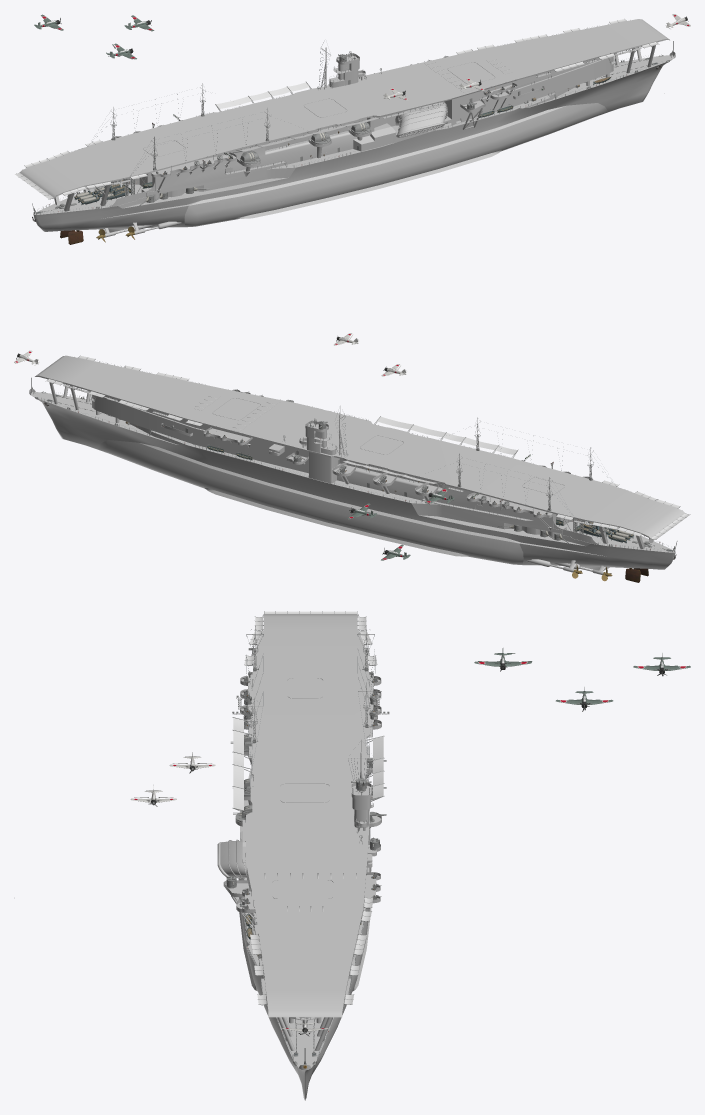
The model's file is Akagi.fbx.
The picture shows the model from 3 angles, top to bottom: view 1: azimuth 30°, elevation 25°; view 2: azimuth 150°, elevation 25°; view 3: azimuth 270°, elevation 25°; orthographic projection. The views are drawn at different scales.
Visible parts, largest first — view 1: Akagi_Hull, Akagi_Netting_Props, Akagi_MetalProps; view 2: Akagi_Hull, Akagi_Netting_Props, Akagi_MetalProps; view 3: Akagi_Hull, Akagi_Netting_Props, Akagi_MetalProps.
Part boxes in pixels (bbox=[...]): Akagi_Hull: bbox=[20, 19, 675, 237]; Akagi_Netting_Props: bbox=[15, 19, 658, 198]; Akagi_MetalProps: bbox=[16, 19, 673, 214]; Akagi_Hull: bbox=[29, 355, 684, 574]; Akagi_Netting_Props: bbox=[46, 355, 689, 539]; Akagi_MetalProps: bbox=[31, 355, 690, 551]; Akagi_Hull: bbox=[217, 614, 381, 1100]; Akagi_Netting_Props: bbox=[233, 611, 383, 1004]; Akagi_MetalProps: bbox=[232, 611, 384, 1065].
Bounding box in the file's own units: 26540 × 4672 × 17447.
